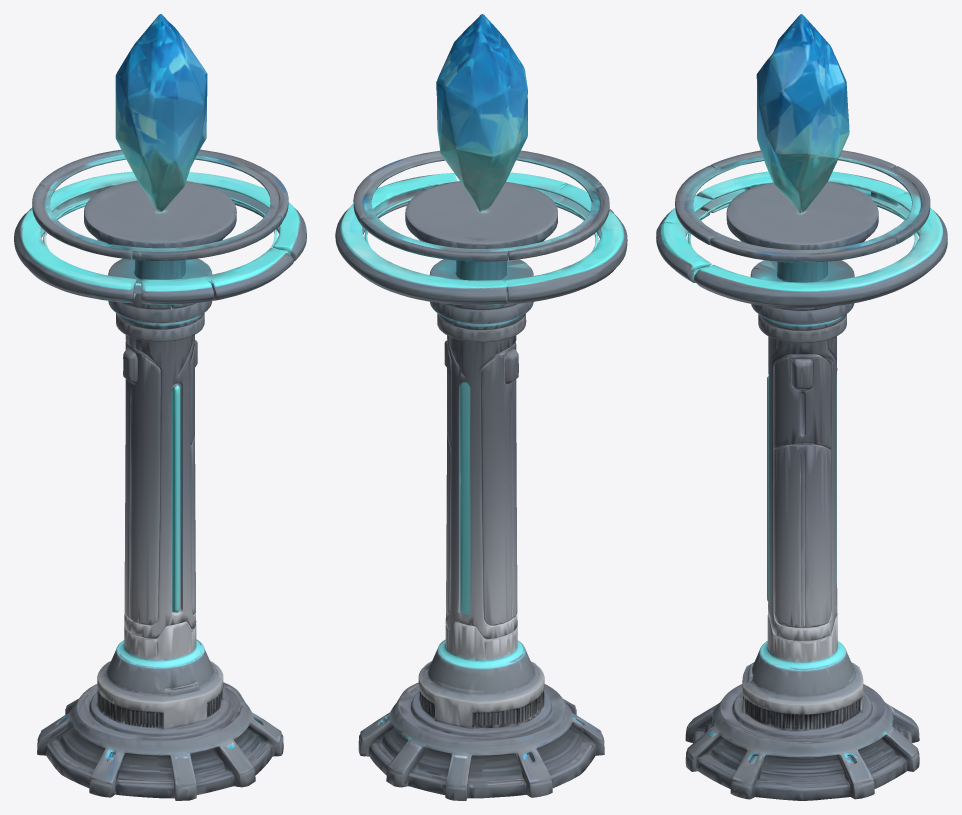
Rendered from 减速塔.glb.
The picture shows the model from 3 angles, left to right: view 1: azimuth 30°, elevation 25°; view 2: azimuth 150°, elevation 25°; view 3: azimuth 270°, elevation 25°; orthographic projection.
Parts seen in each view (by area): view 1: node_0; view 2: node_0; view 3: node_0.
Part boxes in pixels (<box>): node_0: <box>14,14,306,800</box>; node_0: <box>335,14,627,800</box>; node_0: <box>656,14,947,800</box>.
Bounding box in the file's own units: 0.4138 × 1.15 × 0.4111.
1 material, 1 textured.
